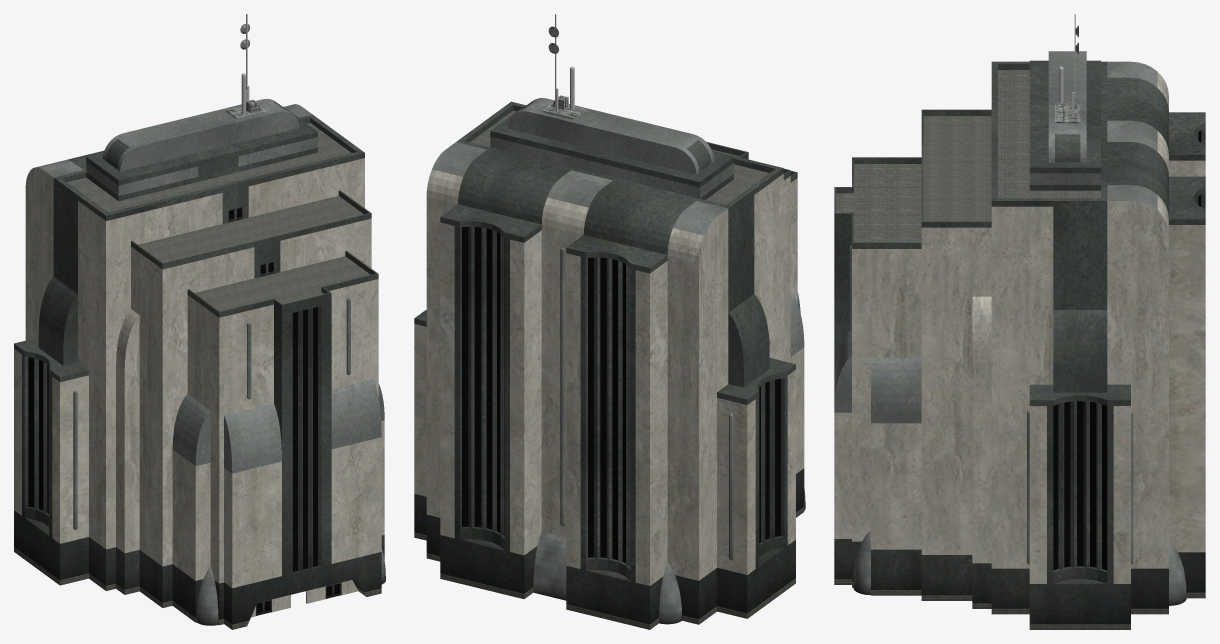
Rendered from thm_corl_imprv_building_s04_r0_mesh_l0.fbx.
3 renders of one model, left to right at view 1: azimuth 30°, elevation 25°; view 2: azimuth 150°, elevation 25°; view 3: azimuth 270°, elevation 25°, orthographic. The views are drawn at different scales.
Parts seen in each view (by area): view 1: mesh_node; view 2: mesh_node; view 3: mesh_node.
Part boxes in pixels (x1,y1,x2,y2): mesh_node: [14, 14, 385, 629]; mesh_node: [414, 14, 805, 629]; mesh_node: [834, 14, 1205, 629].
Bounding box in the file's own units: 63.59 × 97 × 58.59.
